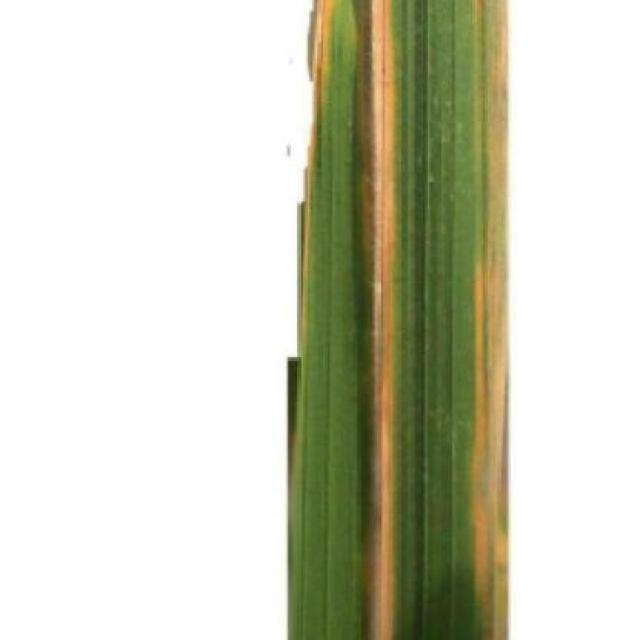Brown_Spot: (280, 0, 517, 640)
